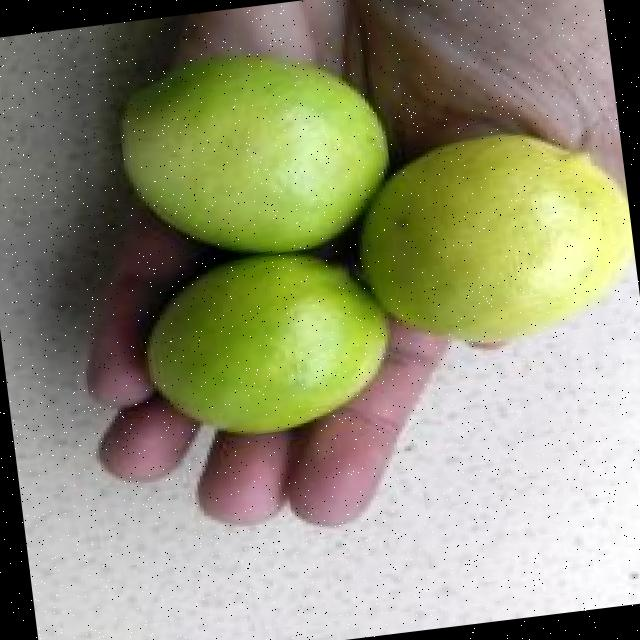lemon: (361, 135, 631, 341), (121, 55, 387, 253), (145, 255, 385, 432)
